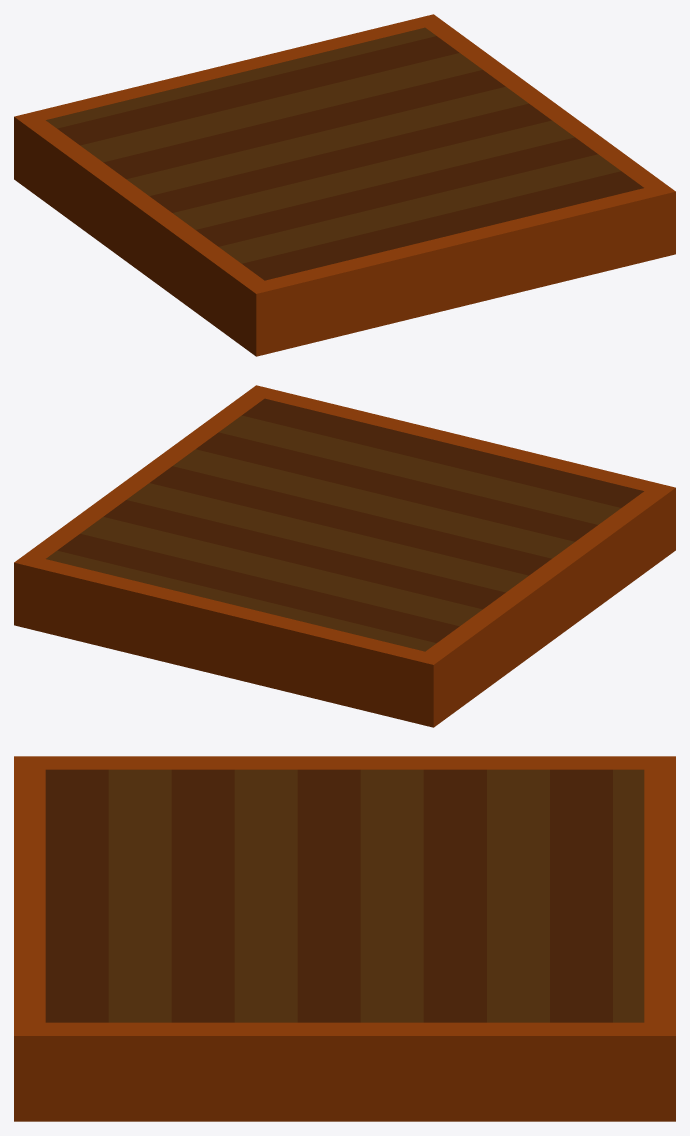
Rendered from lVL3 PLAT.obj.
3 renders of one model, top to bottom at view 1: azimuth 30°, elevation 25°; view 2: azimuth 150°, elevation 25°; view 3: azimuth 270°, elevation 25°, orthographic. The views are drawn at different scales.
Parts seen in each view (by area): view 1: lVL3 PLAT; view 2: lVL3 PLAT; view 3: lVL3 PLAT.
Part boxes in pixels (box(x1,y1,x2,y2)): lVL3 PLAT: box(14, 14, 675, 356); lVL3 PLAT: box(14, 385, 675, 727); lVL3 PLAT: box(14, 756, 675, 1121).
Bounding box in the file's own units: 21 × 3 × 21.
Materials: 1 (1 with a texture image).
